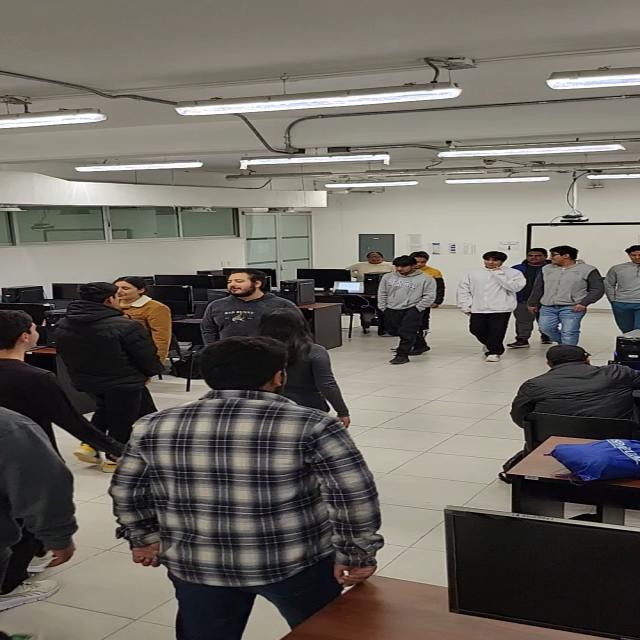Persona: (120, 336, 370, 638), (54, 277, 149, 453), (459, 249, 516, 370), (532, 246, 594, 357), (378, 251, 428, 365), (603, 244, 640, 346)
